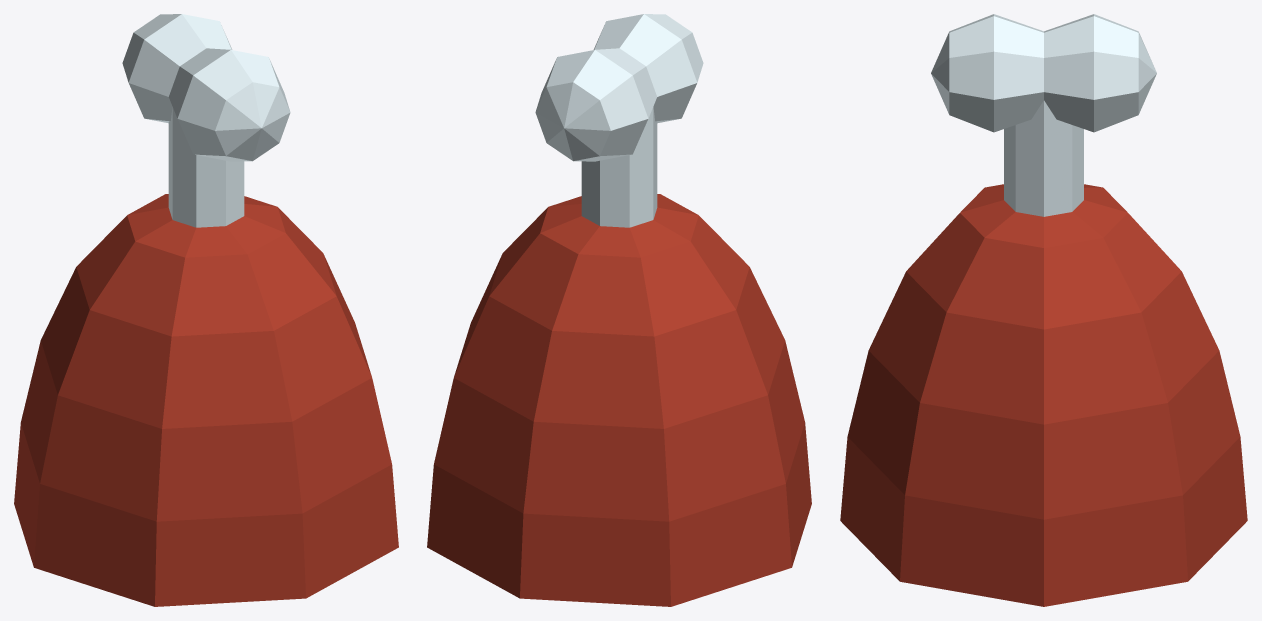
Rendered from Meat.fbx.
3 renders of one model, left to right at view 1: azimuth 30°, elevation 25°; view 2: azimuth 150°, elevation 25°; view 3: azimuth 270°, elevation 25°, orthographic. The views are drawn at different scales.
Visible parts, largest first — view 1: Meat; view 2: Meat; view 3: Meat.
Boxes of the visible parts, left/top/right/bottom form: Meat: left=14, top=14, right=398, bottom=606; Meat: left=427, top=14, right=811, bottom=606; Meat: left=840, top=14, right=1247, bottom=606.
Size of the model in its own units: 0.2988 by 0.2988 by 0.4163.
